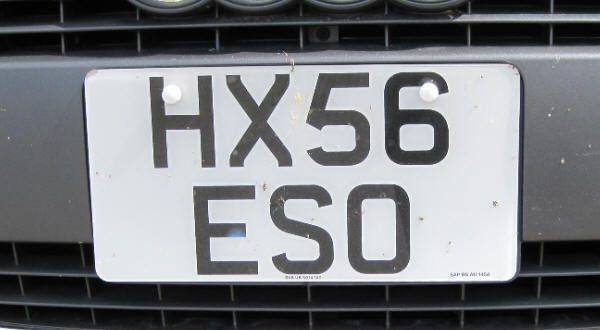license_plate: (84, 66, 522, 283)
